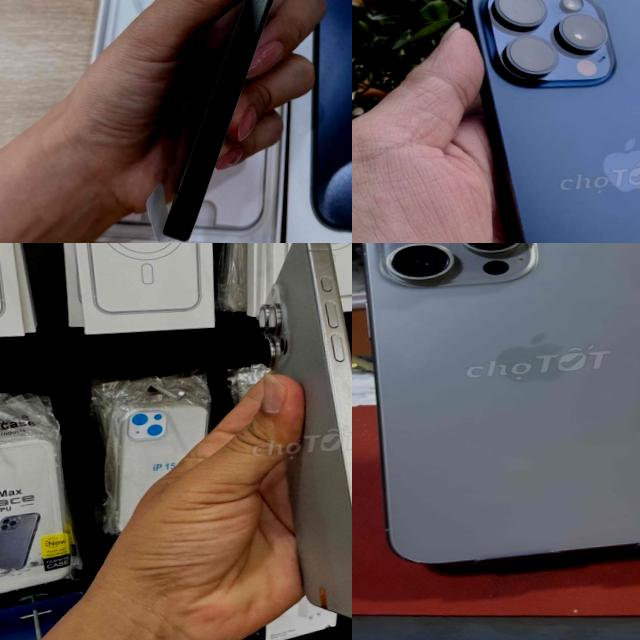gen_14: (361, 243, 640, 573)
gen_15: (111, 0, 352, 238), (224, 243, 352, 638), (447, 0, 640, 243)
